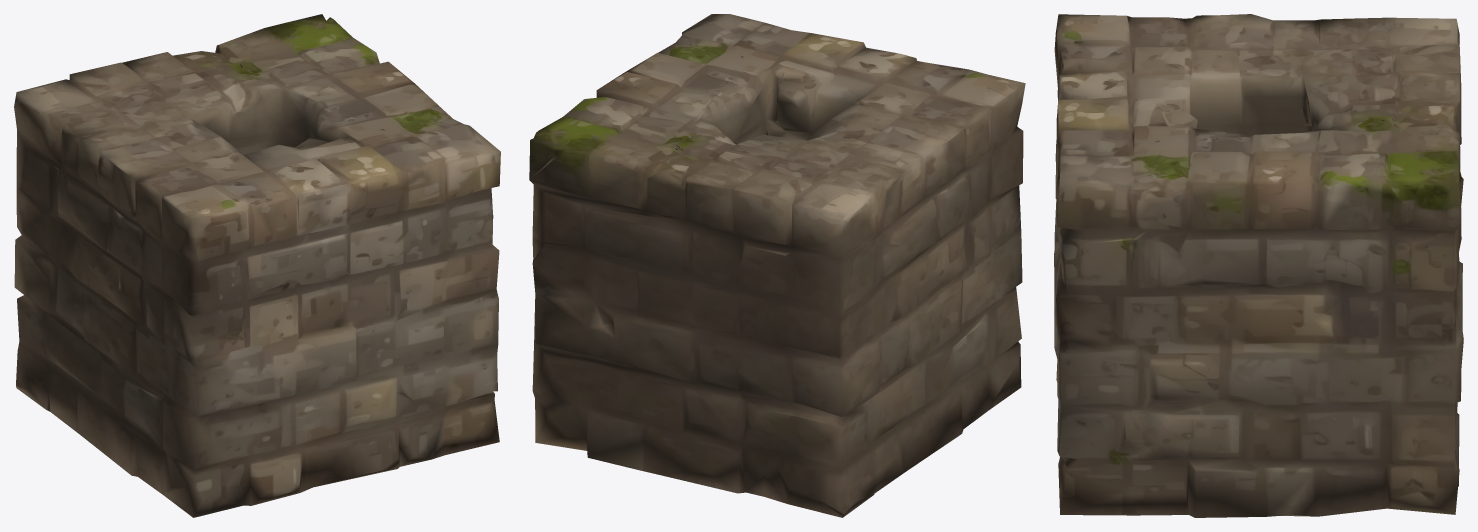
Rendered from Wall_C0_C.glb.
The picture shows the model from 3 angles, left to right: view 1: azimuth 30°, elevation 25°; view 2: azimuth 150°, elevation 25°; view 3: azimuth 270°, elevation 25°; orthographic projection. The views are drawn at different scales.
Parts seen in each view (by area): view 1: tripo_node_38a8442a-ca17-4f3d-b3b2-4999183fbe86; view 2: tripo_node_38a8442a-ca17-4f3d-b3b2-4999183fbe86; view 3: tripo_node_38a8442a-ca17-4f3d-b3b2-4999183fbe86.
Part boxes in pixels (x1,y1,x2,y2): tripo_node_38a8442a-ca17-4f3d-b3b2-4999183fbe86: (14, 14, 500, 517); tripo_node_38a8442a-ca17-4f3d-b3b2-4999183fbe86: (529, 14, 1025, 517); tripo_node_38a8442a-ca17-4f3d-b3b2-4999183fbe86: (1054, 14, 1463, 517).
Size of the model in its own units: 0.993 by 0.9171 by 1.
Materials: 1 (1 with a texture image).
